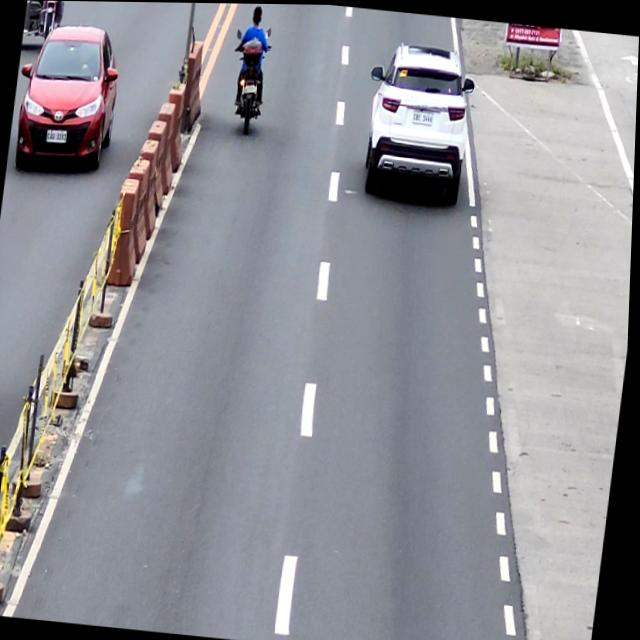Car: (357, 38, 480, 207)
License-Plate: (411, 108, 436, 124), (243, 83, 257, 95)
Motorcycle: (224, 25, 273, 134)
